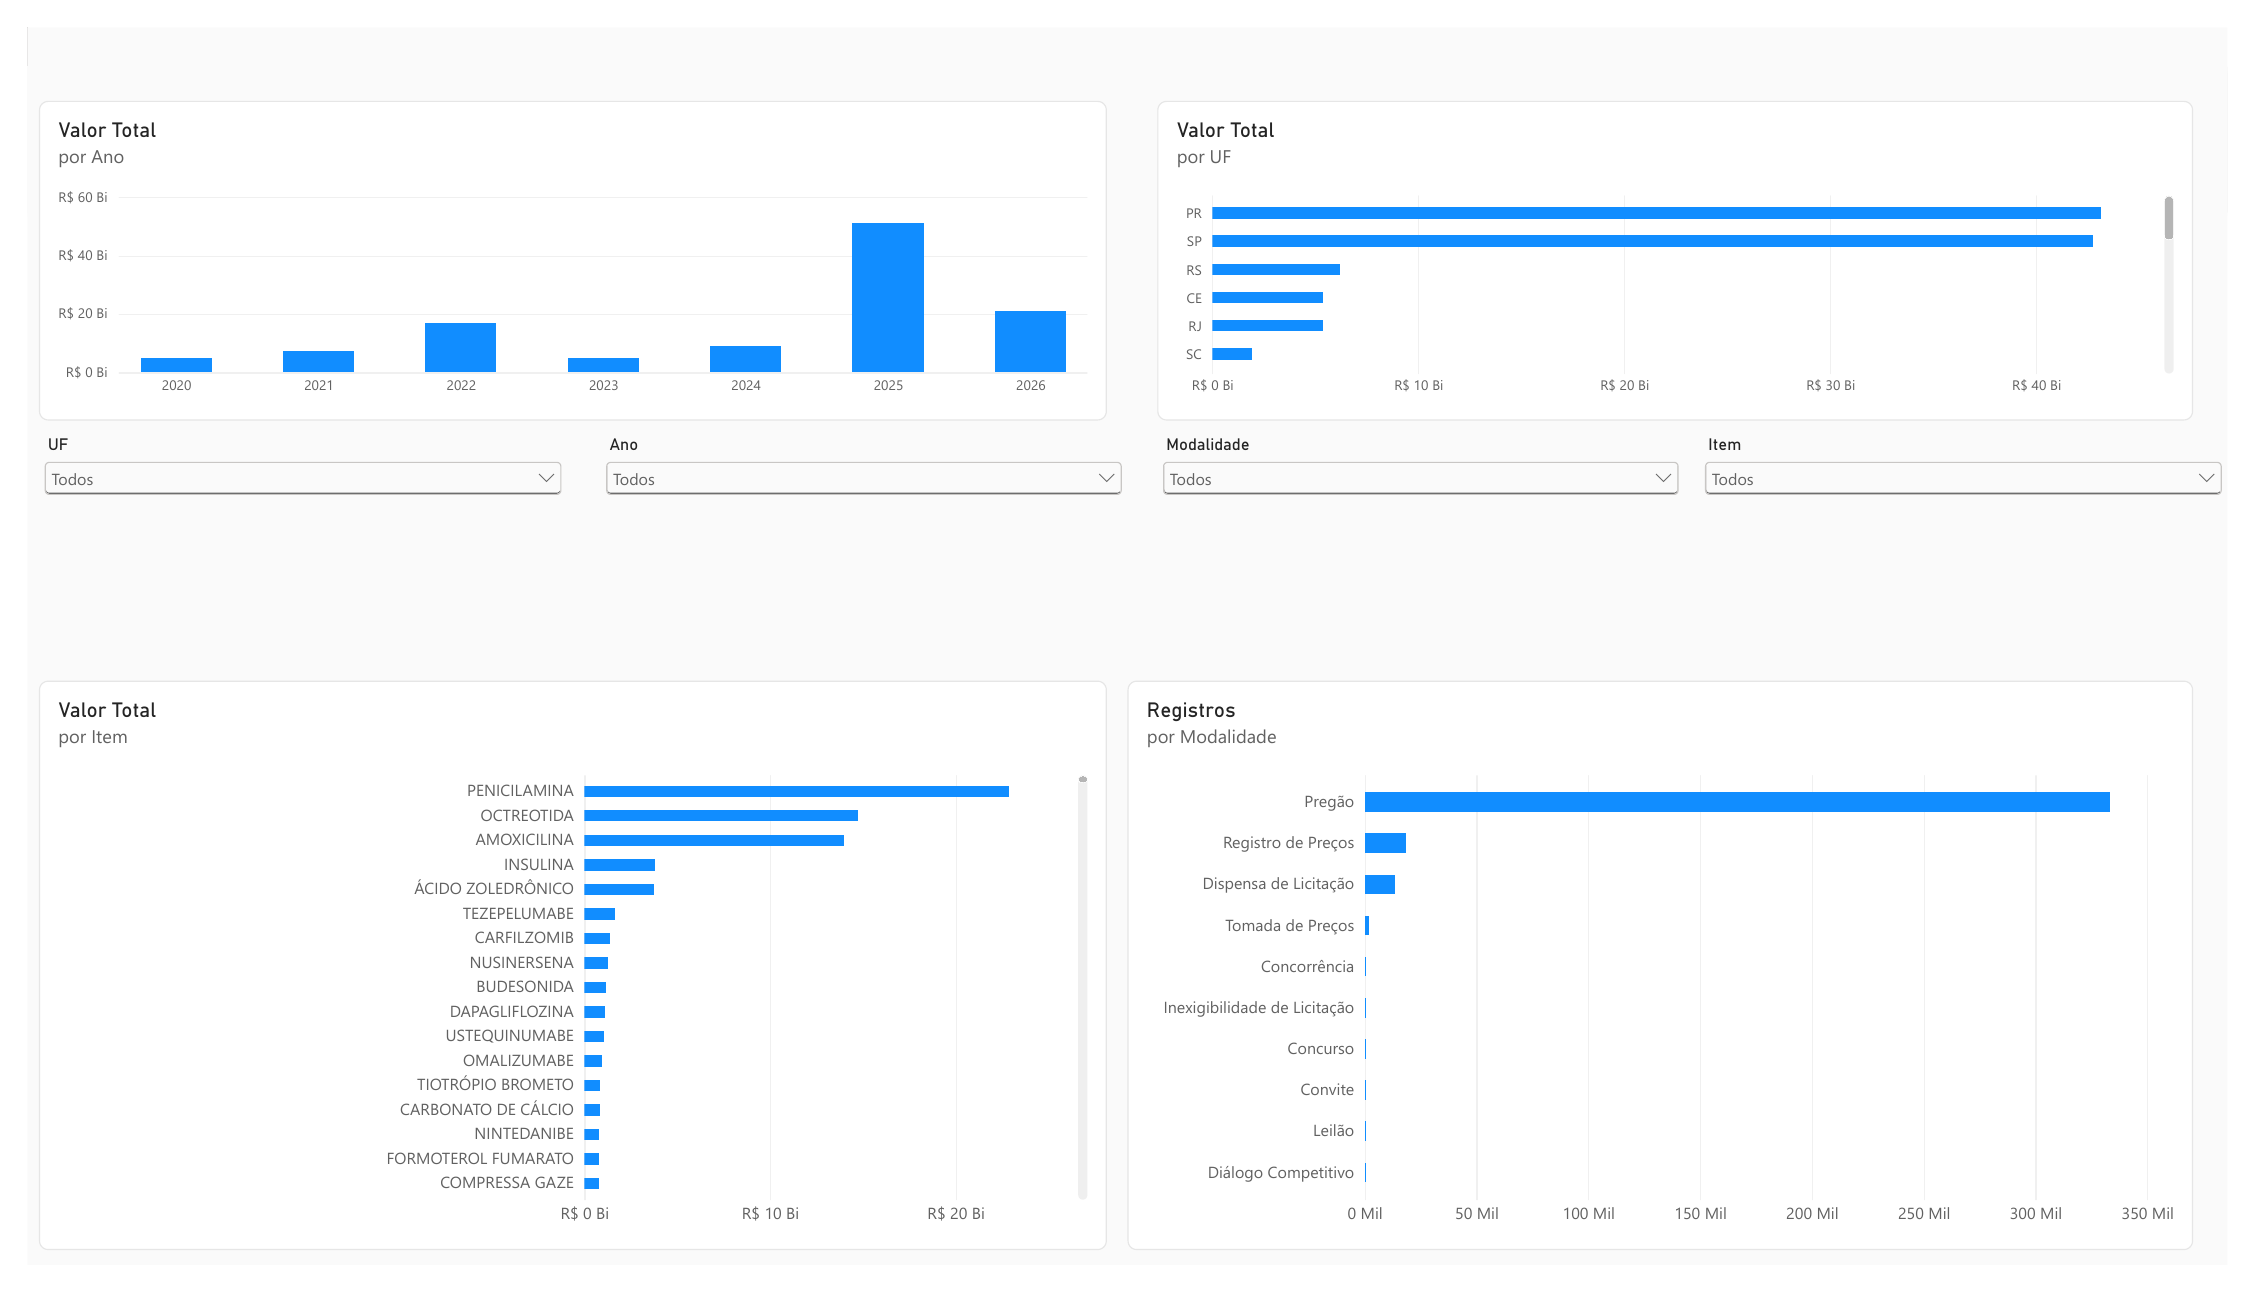

Layout of this report page (visuals, bound fields, positions):
{"tool":"powerbi","page":{"name":"Onde e como se compra","canvas":[1920,1080],"ordinal":1},"visuals":[{"type":"slicer","fields":{"Values":["BPS.sg_uf"]},"box":[10.1,356.1,460.7,148.5],"z":0},{"type":"slicer","fields":{"Values":["BPS.ano_compra"]},"box":[499.5,356.1,460.7,148.5],"z":1},{"type":"slicer","fields":{"Values":["BPS.modalidade"]},"box":[985.5,356.1,460.7,148.5],"z":2},{"type":"slicer","fields":{"Values":["BPS.item_resumo"]},"box":[1459.3,356.1,460.7,148.5],"z":3},{"type":"columnChart","fields":{"Category":["BPS.ano_compra"],"Y":["BPS.Valor Total"]},"box":[10.1,64.1,931.5,278.4],"z":4},{"type":"barChart","fields":{"Category":["BPS.sg_uf"],"Y":["BPS.Valor Total"]},"box":[985.5,64.1,904.5,278.4],"z":5},{"type":"barChart","fields":{"Category":["BPS.item_resumo"],"Y":["BPS.Valor Total"]},"box":[10.1,570.4,931.5,496.1],"z":6},{"type":"barChart","fields":{"Category":["BPS.modalidade"],"Y":["BPS.Registros"]},"box":[960.2,570.4,929.8,496.1],"z":7}]}

Visuals, with their boxes in screenshot pixels (x1, y1, x2, y2), scaled from the page's 1920x1080 canvas onto the 2255x1293 screenshot:
slicer - BPS.sg_uf: [left=12, top=426, right=553, bottom=604]
slicer - BPS.ano_compra: [left=587, top=426, right=1128, bottom=604]
slicer - BPS.modalidade: [left=1157, top=426, right=1699, bottom=604]
slicer - BPS.item_resumo: [left=1714, top=426, right=2254, bottom=604]
columnChart - BPS.ano_compra x BPS.Valor Total: [left=12, top=77, right=1106, bottom=410]
barChart - BPS.sg_uf x BPS.Valor Total: [left=1157, top=77, right=2220, bottom=410]
barChart - BPS.item_resumo x BPS.Valor Total: [left=12, top=683, right=1106, bottom=1277]
barChart - BPS.modalidade x BPS.Registros: [left=1128, top=683, right=2220, bottom=1277]
